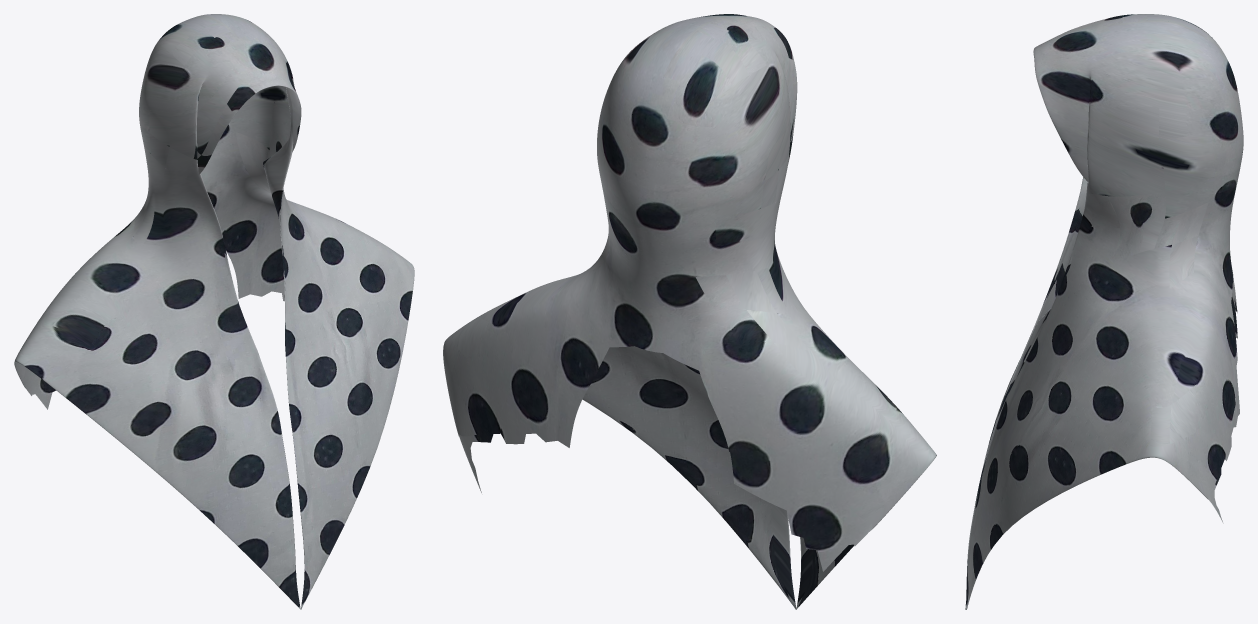
The model's file is scarf1.glb.
The picture shows the model from 3 angles, left to right: view 1: azimuth 30°, elevation 25°; view 2: azimuth 150°, elevation 25°; view 3: azimuth 270°, elevation 25°; orthographic projection. The views are drawn at different scales.
Visible parts, largest first — view 1: Cube; view 2: Cube; view 3: Cube.
Part boxes in pixels (left/top/right/bottom): Cube: left=14, top=14, right=414, bottom=609; Cube: left=443, top=14, right=936, bottom=609; Cube: left=965, top=14, right=1243, bottom=609.
Size of the model in its own units: 0.3683 by 0.47 by 0.2014.
1 material, 1 textured.
